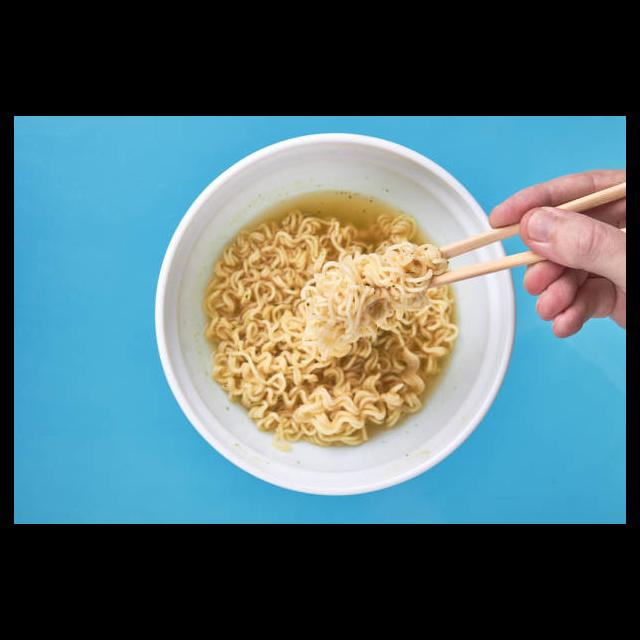noodles: (203, 201, 460, 454)
